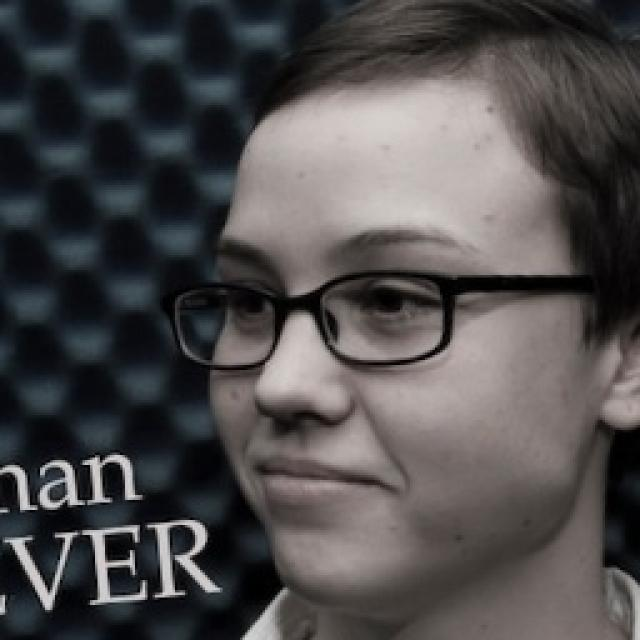glasses: (168, 254, 470, 376)
